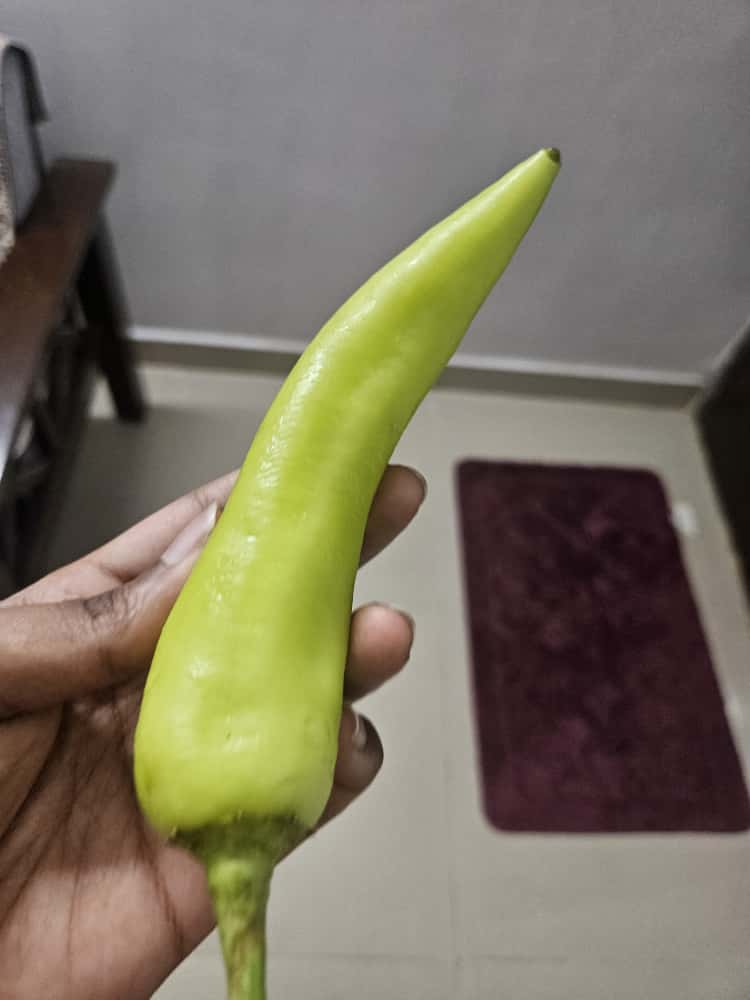wet: (96, 115, 586, 957)
